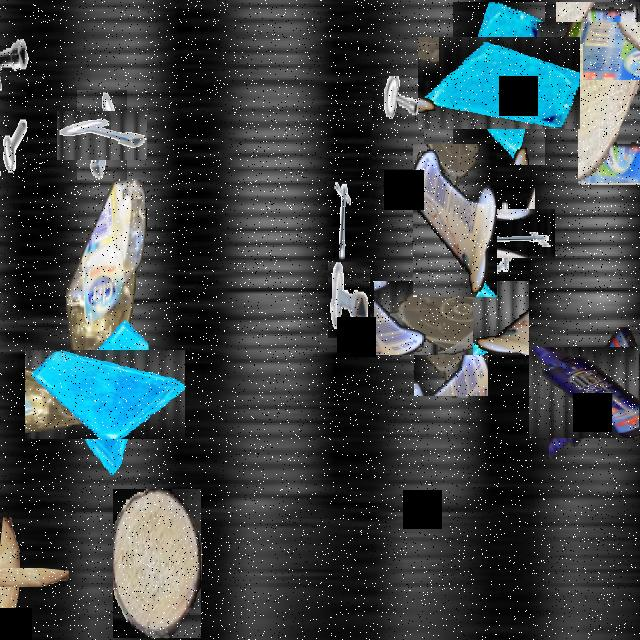glass: (435, 20, 563, 147), (42, 332, 168, 457)
metal: (321, 180, 375, 276), (67, 100, 137, 170), (475, 198, 545, 268), (372, 76, 424, 169), (0, 2, 33, 112), (328, 263, 370, 338), (0, 91, 27, 176)
plastic: (66, 180, 148, 439), (394, 260, 508, 376), (413, 144, 497, 297), (538, 337, 640, 448), (546, 11, 640, 116)
wood: (113, 489, 201, 638), (578, 80, 640, 183), (0, 543, 44, 613)
